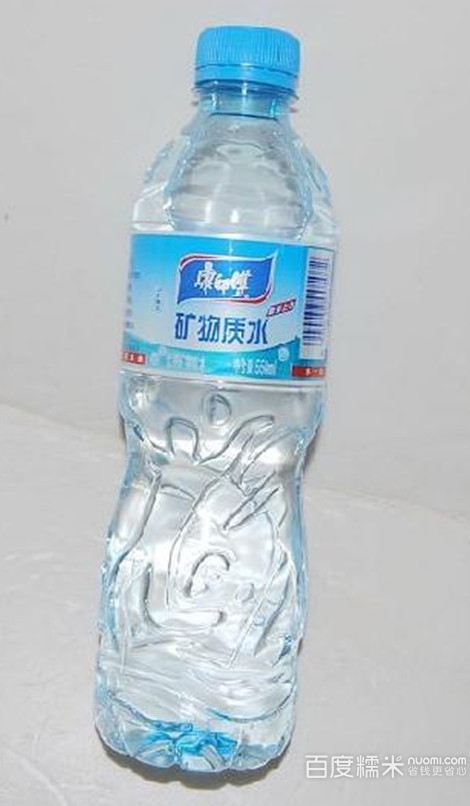amwater: (114, 1, 335, 795)
